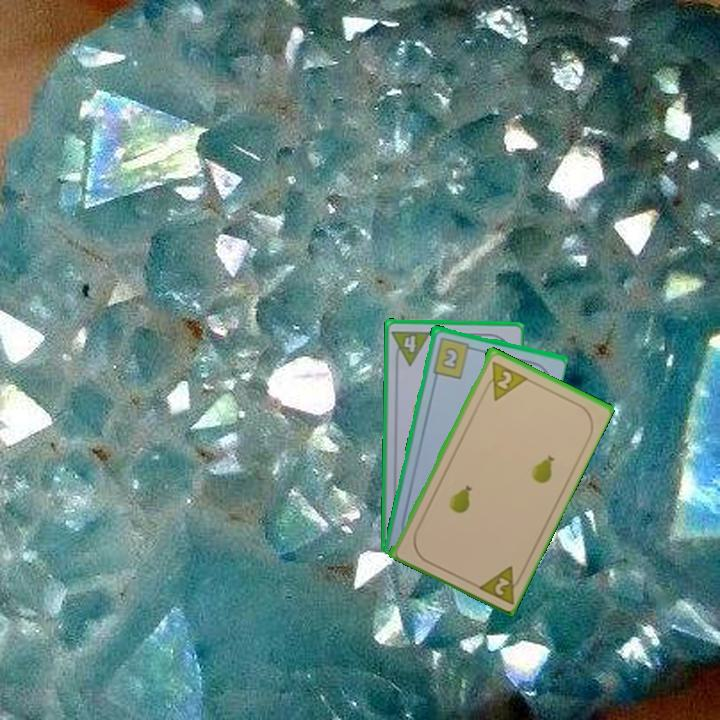2b: (429, 333, 477, 381)
2p: (473, 561, 527, 607), (480, 356, 529, 403)
4p: (388, 327, 433, 368)
